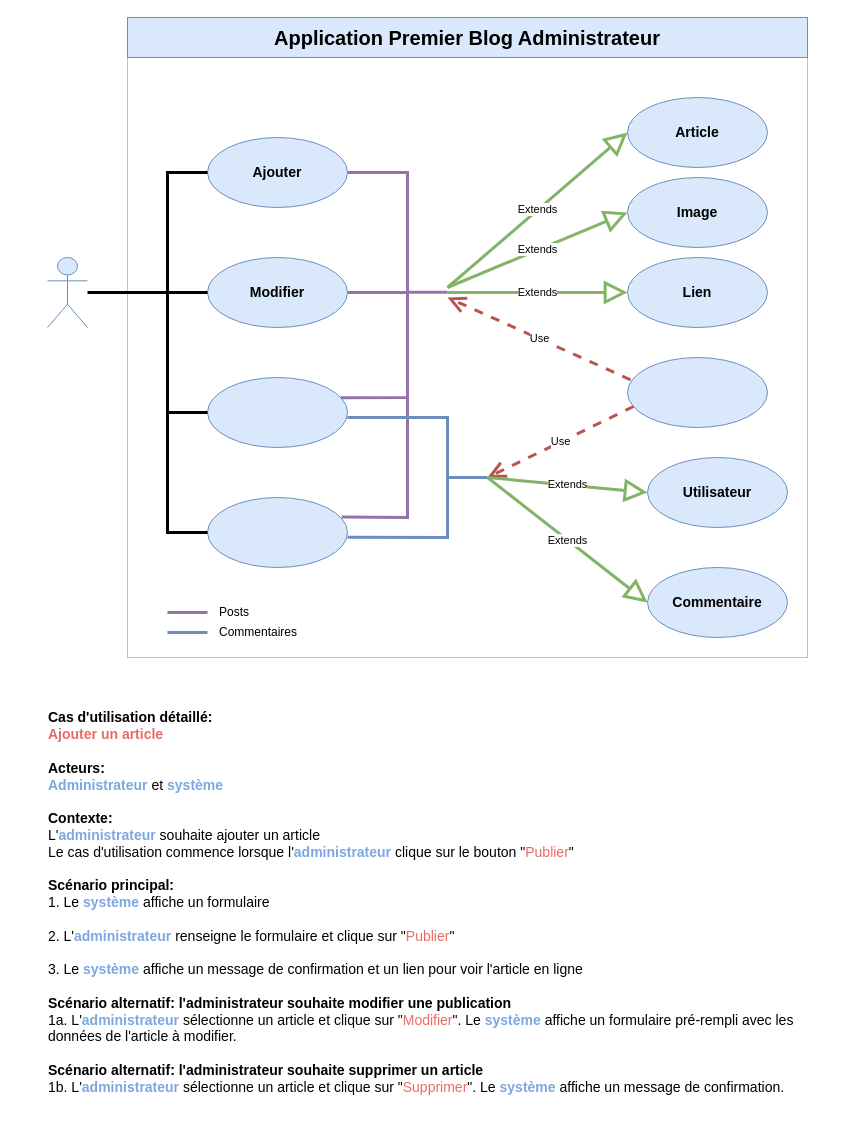
The diagram is 845 pixels wide and 1125 high, and some of its shapes have lost their labels. The shapes that lost their labels are listed below. From the top down, each one's box as (x1, y1, x2, y2) in pixels, then its label:
(46, 256, 88, 328): Administrateur
(206, 376, 348, 448): Valider
(626, 356, 768, 428): Se connecter
(206, 496, 348, 568): Supprimer
